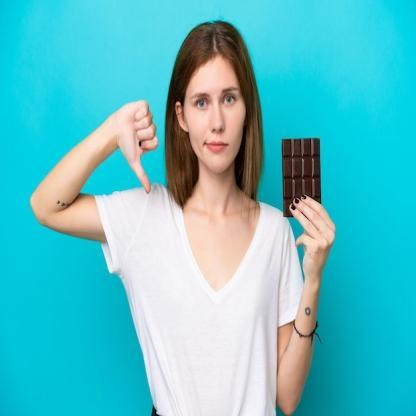thumb_down: (112, 99, 162, 197)
